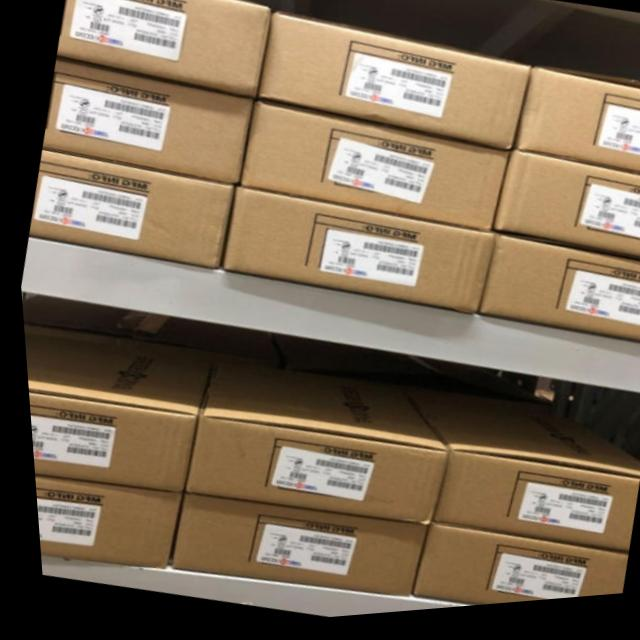box: (178, 359, 440, 530), (391, 390, 634, 561), (259, 16, 527, 158), (234, 104, 509, 240), (216, 189, 490, 322), (19, 324, 204, 492), (41, 57, 253, 189), (164, 496, 419, 602), (26, 150, 230, 272), (56, 0, 273, 106), (471, 242, 640, 353), (401, 529, 618, 612), (487, 157, 640, 269), (514, 74, 640, 186), (28, 475, 173, 570)
